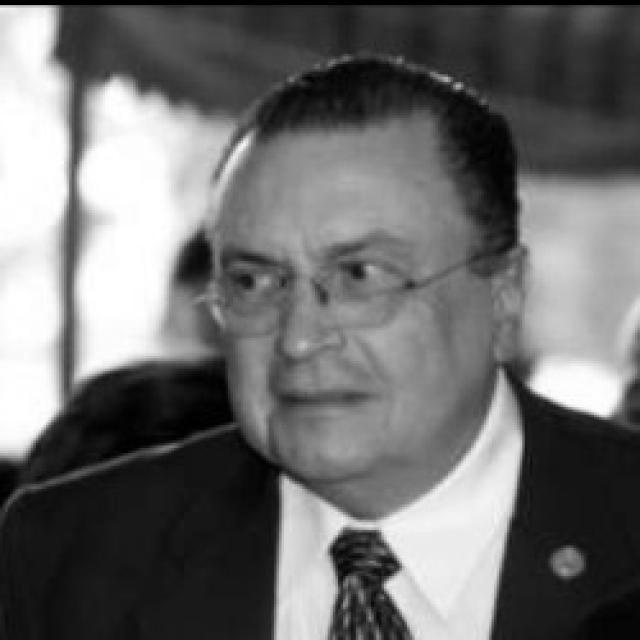real: (200, 67, 546, 479), (222, 252, 434, 325)
